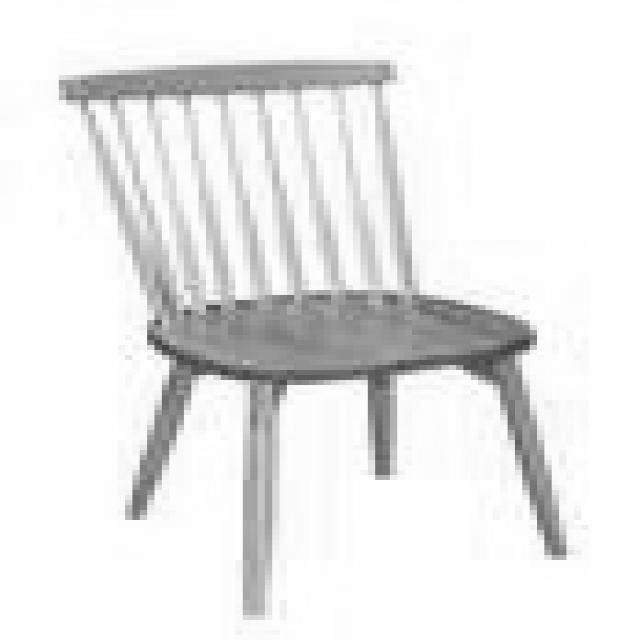chair: (59, 60, 570, 618)
